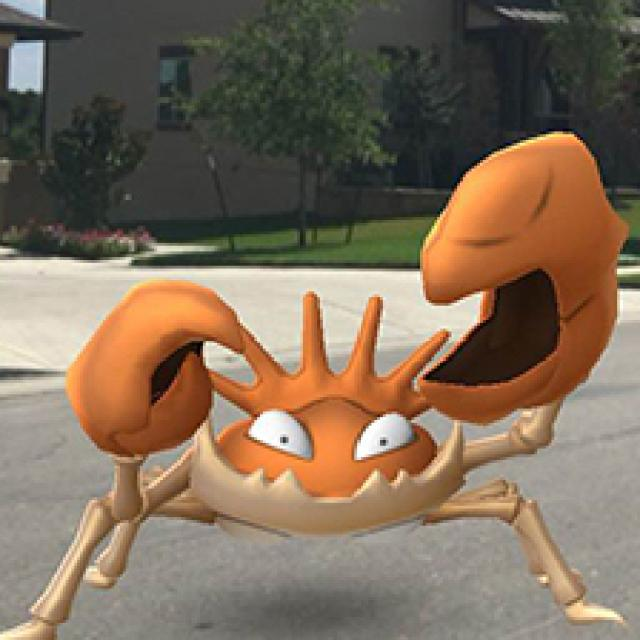Kingler: (61, 206, 622, 590)
